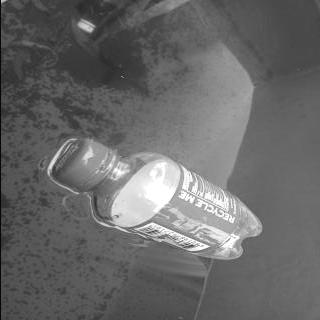bottle: (49, 138, 264, 261)
